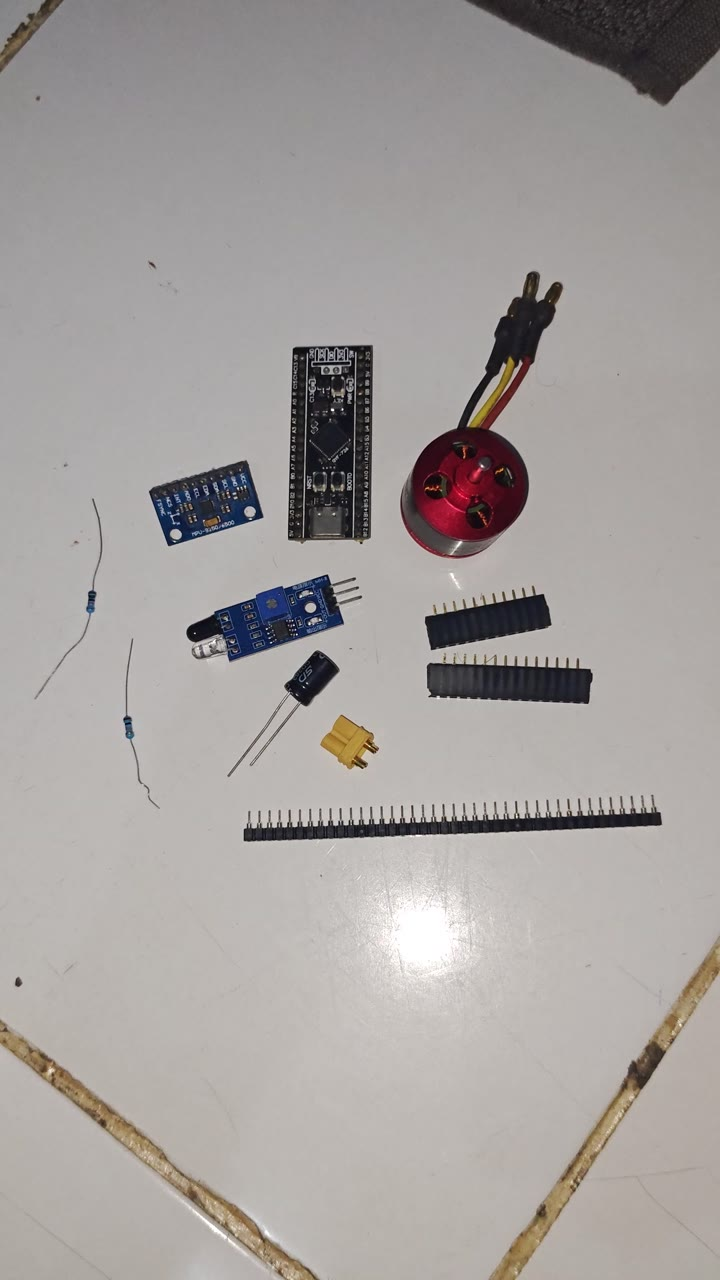bldc_motor: (392, 347, 537, 565)
elco_capacitor: (267, 662, 336, 735)
ir_sensor: (178, 585, 351, 686)
mpu6500: (143, 464, 265, 549)
pin_header: (223, 801, 661, 839), (419, 594, 557, 651), (419, 667, 593, 703)
resistor: (21, 506, 107, 730), (109, 651, 164, 845)
stm32f4: (284, 354, 374, 552)
xt30_female: (317, 722, 381, 770)
